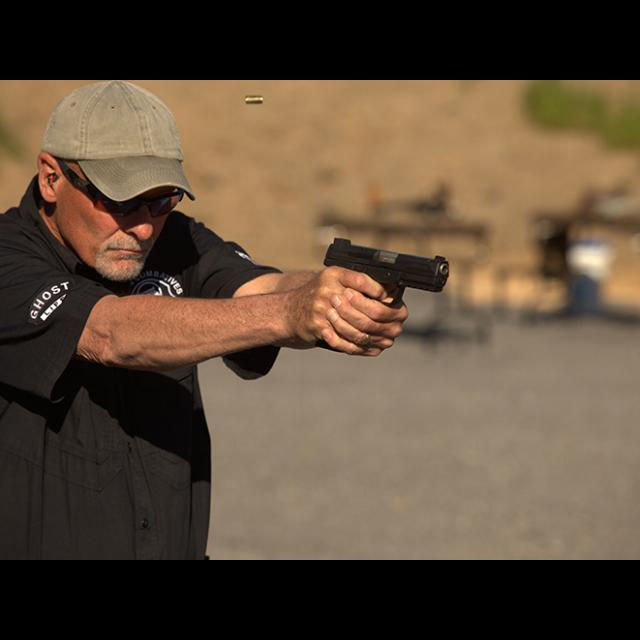handgun: (318, 236, 452, 310)
